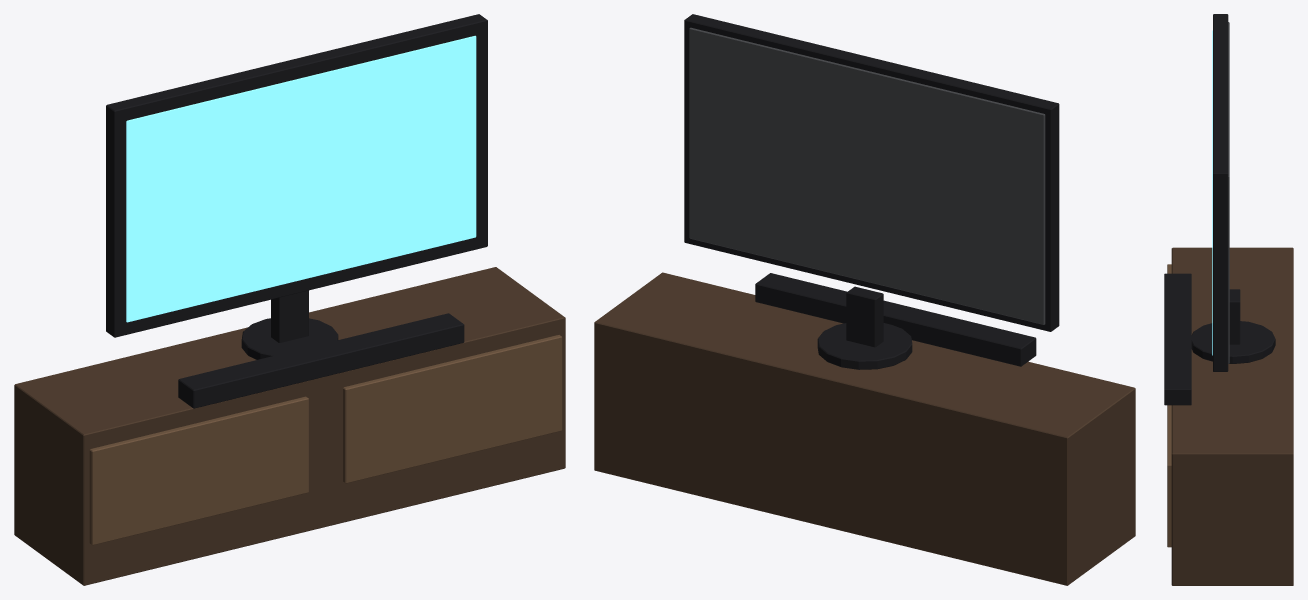
File: PRP_TV_ND_v001.fbx
The picture shows the model from 3 angles, left to right: view 1: azimuth 30°, elevation 25°; view 2: azimuth 150°, elevation 25°; view 3: azimuth 270°, elevation 25°; orthographic projection. The views are drawn at different scales.
Visible parts, largest first — view 1: PRP_TV_ND_v001; view 2: PRP_TV_ND_v001; view 3: PRP_TV_ND_v001.
Part boxes in pixels (x1,y1,x2,y2): PRP_TV_ND_v001: (14,14,565,585); PRP_TV_ND_v001: (594,14,1135,585); PRP_TV_ND_v001: (1164,14,1293,585).
Bounding box in the file's own units: 1.6 × 1.41 × 0.425.
